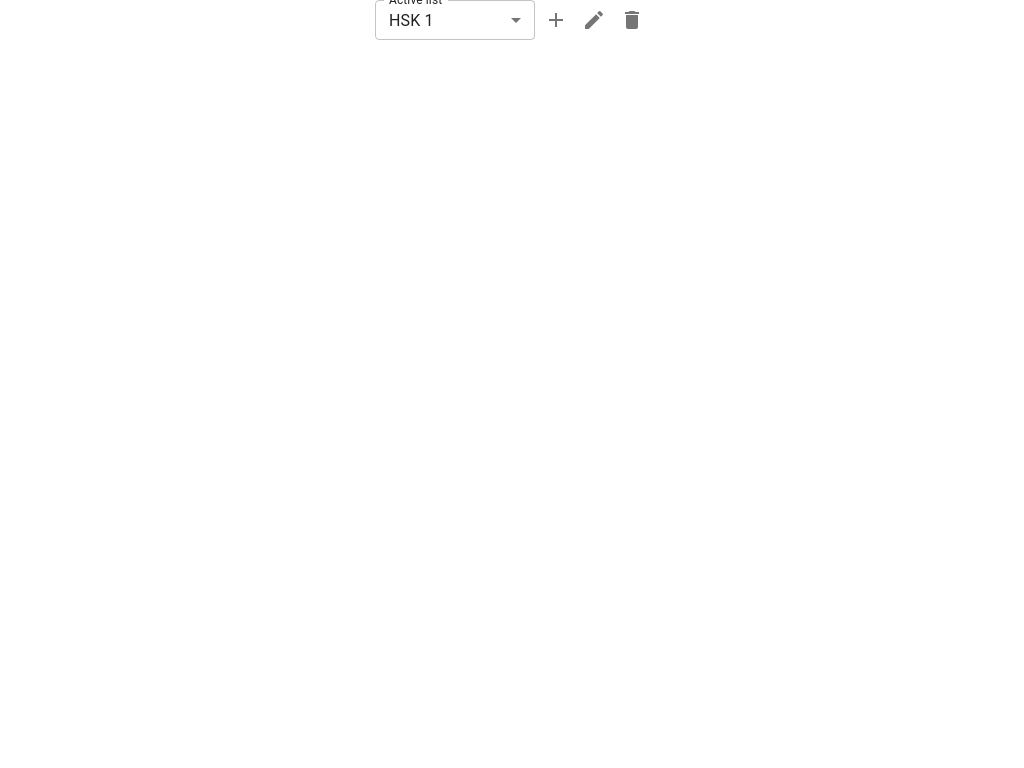
Scenario: ListSelector › create list dialog › opens the create dialog when the add button is clicked
Click the button named "Create new list" at point(556, 20), box [539,3,573,37]
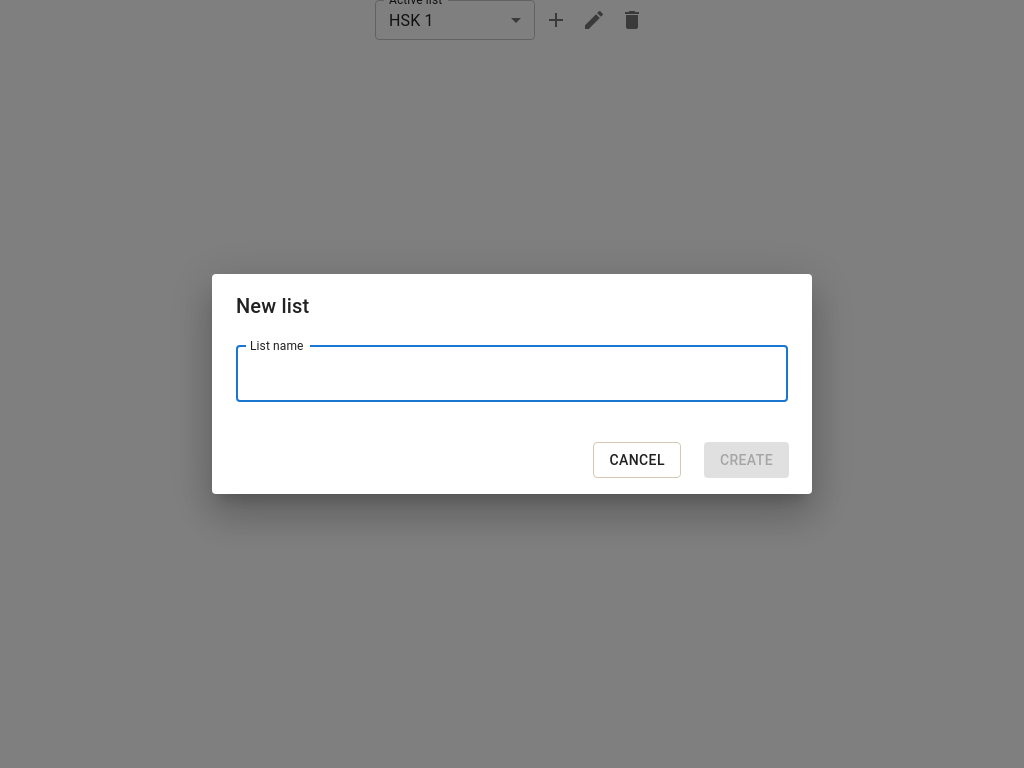
Now the dialog "New list List name Cancel Create" is shown, box [212,274,812,494]
